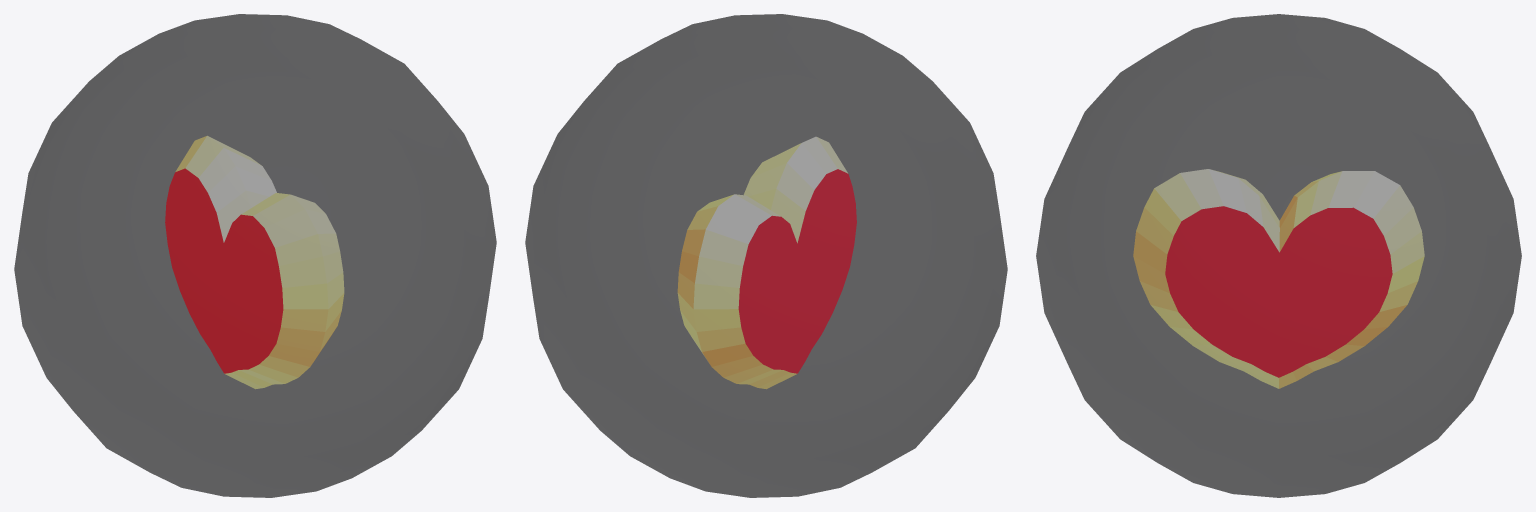
The model's file is heart.glb.
3 renders of one model, left to right at view 1: azimuth 30°, elevation 25°; view 2: azimuth 150°, elevation 25°; view 3: azimuth 270°, elevation 25°, orthographic.
Visible parts, largest first — view 1: Sphere, heart; view 2: Sphere, heart; view 3: Sphere, heart.
Part boxes in pixels (x1,y1,x2,y2): Sphere: (14,14,496,497); heart: (165,136,344,388); Sphere: (525,14,1007,497); heart: (677,137,856,388); Sphere: (1036,14,1521,497); heart: (1133,169,1424,388).
Bounding box in the file's own units: 1 × 1 × 1.
